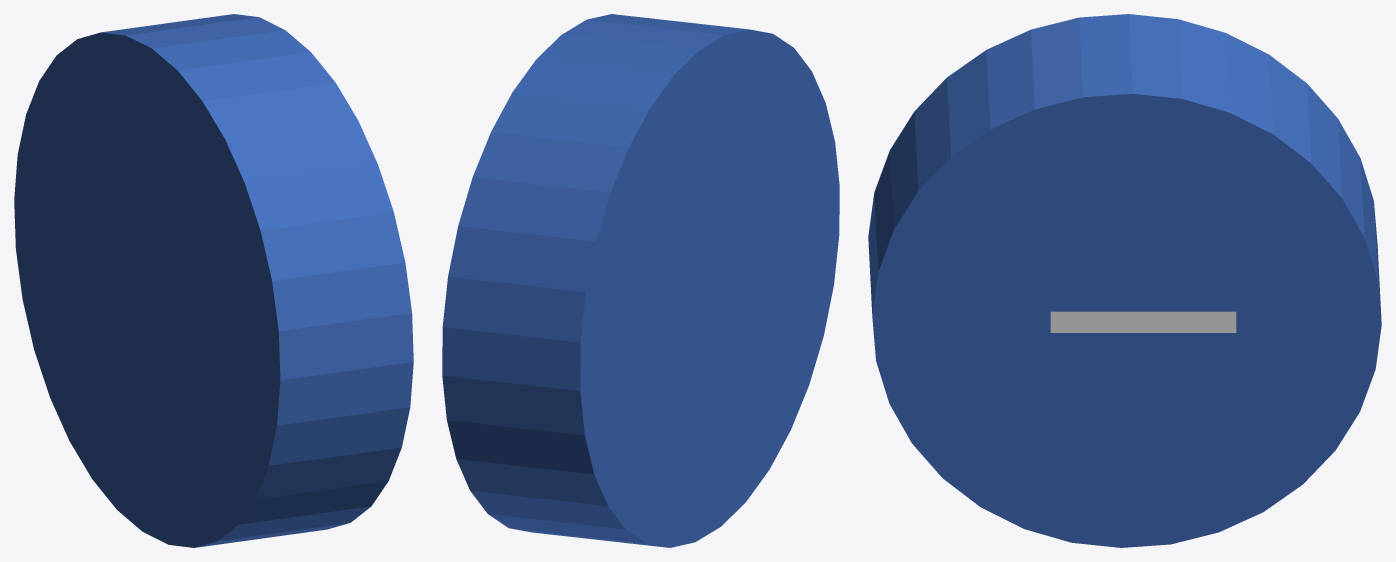
The model's file is quitar.glb.
3 views of the same model, side by side, from view 1: azimuth 30°, elevation 25°; view 2: azimuth 150°, elevation 25°; view 3: azimuth 270°, elevation 25° (orthographic). The views are drawn at different scales.
Parts seen in each view (by area): view 1: Cilindro; view 2: Cilindro; view 3: Cilindro, Texto.
Part boxes in pixels (x1=…): Cilindro: x1=14, y1=14, x2=413, y2=547; Cilindro: x1=442, y1=14, x2=839, y2=547; Cilindro: x1=868, y1=14, x2=1381, y2=547; Texto: x1=1050, y1=311, x2=1236, y2=332.
Size of the model in its own units: 0.7371 by 2.07 by 2.02.
